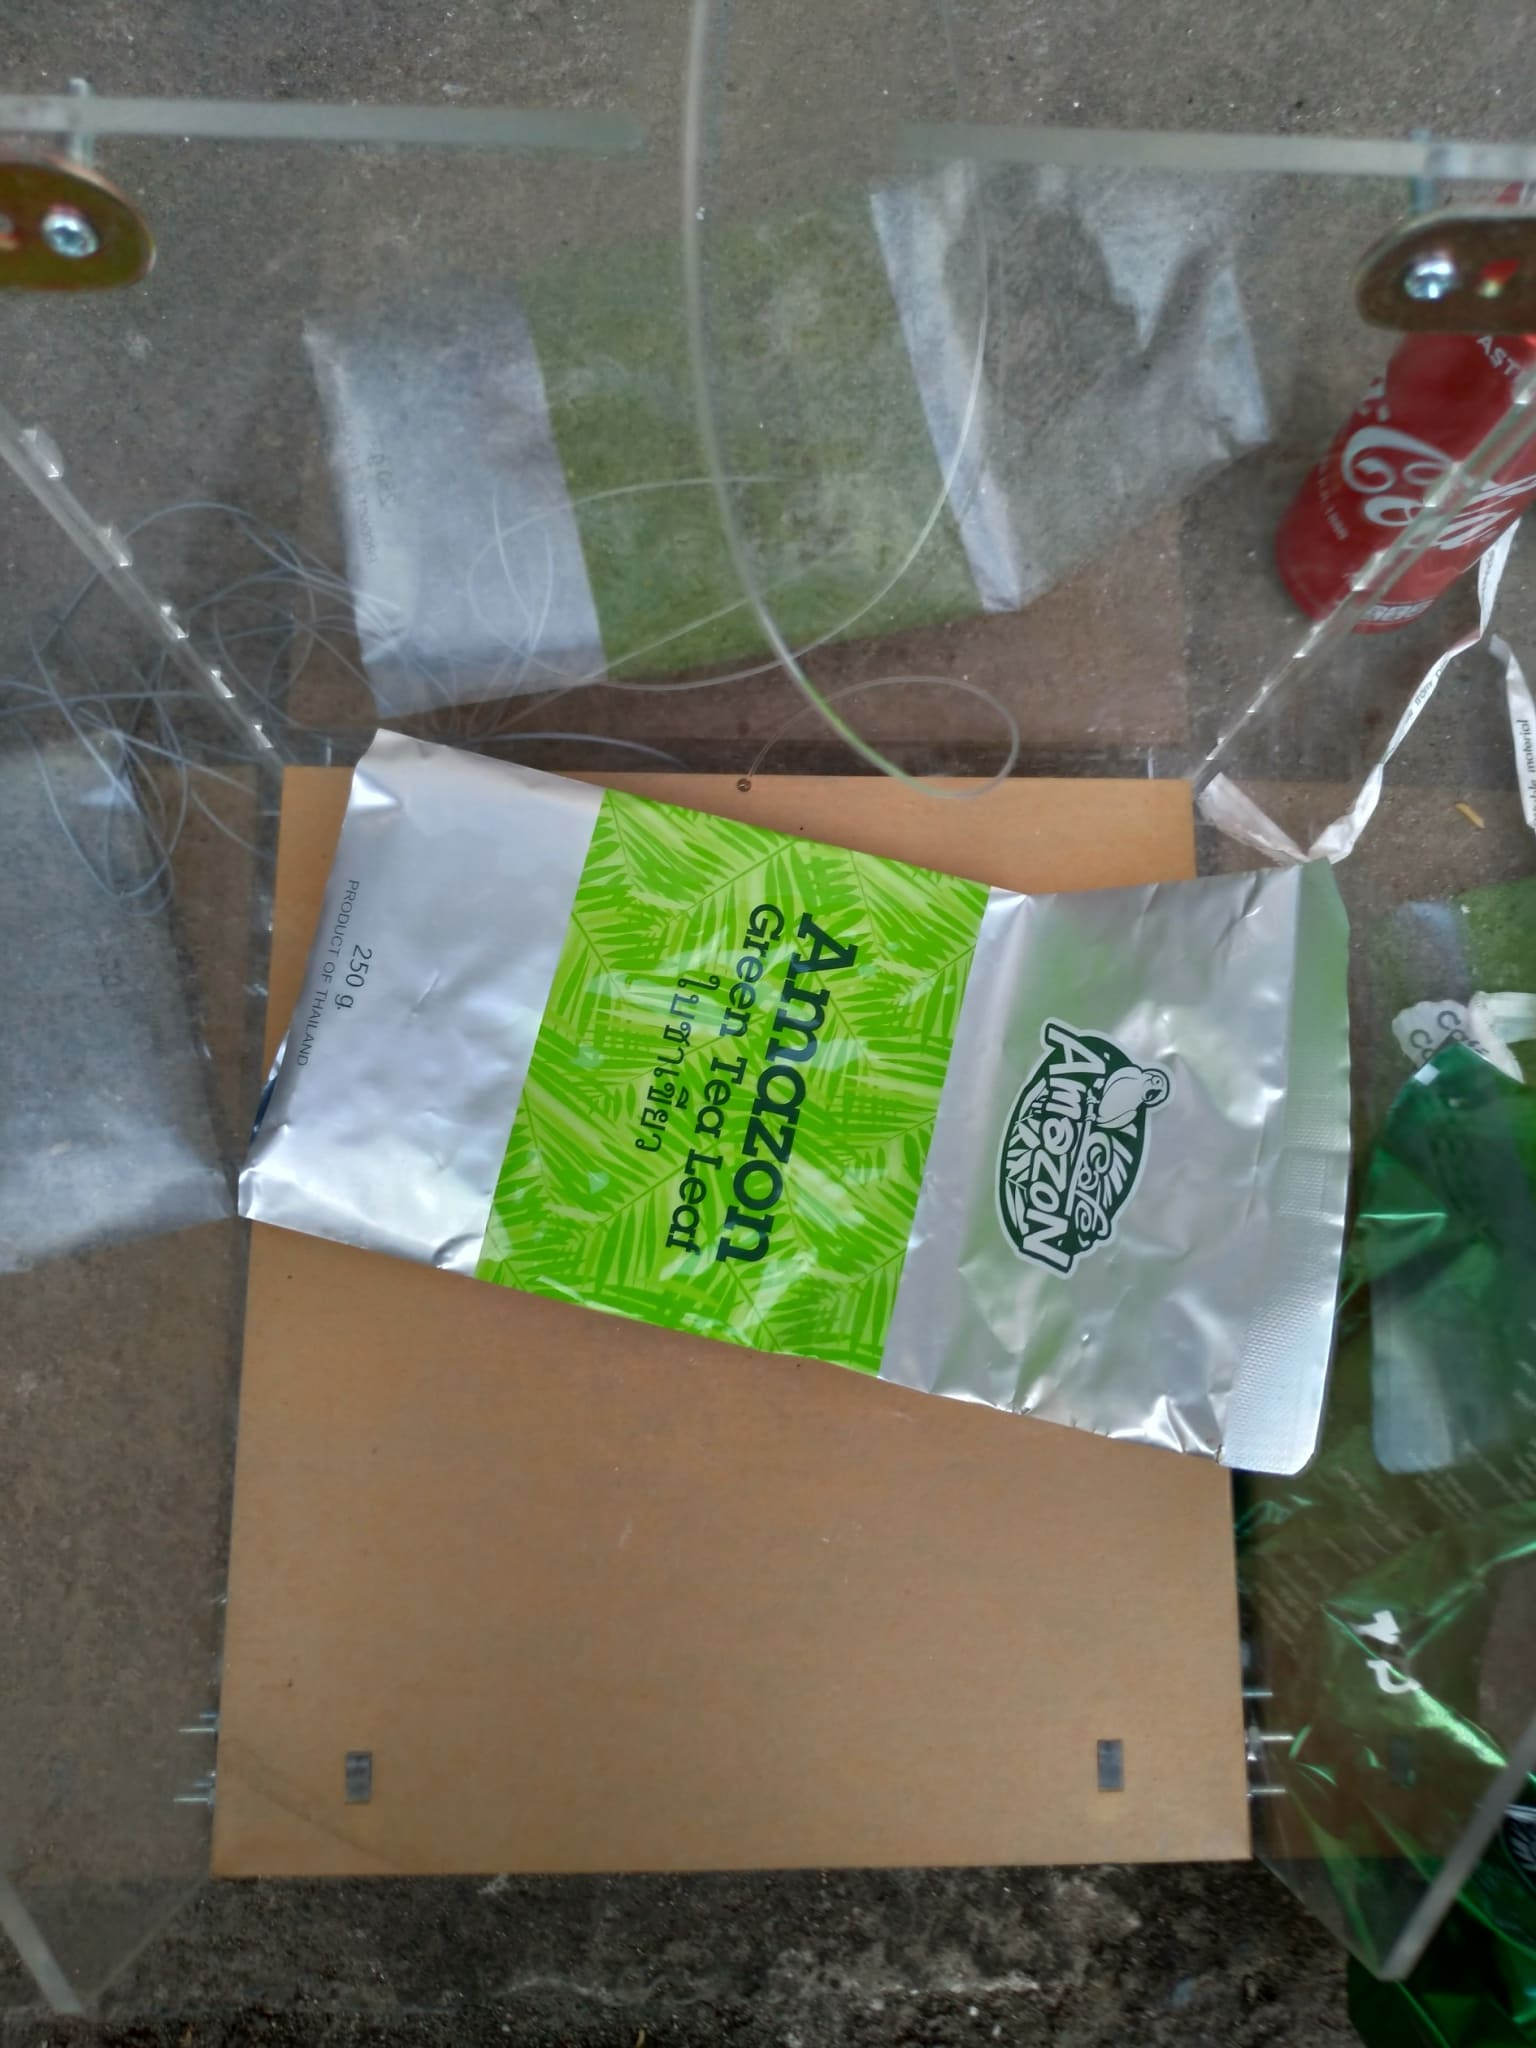AlCan: (1275, 248, 1533, 639)
Others: (232, 734, 1354, 1488), (1254, 1048, 1536, 2045)
